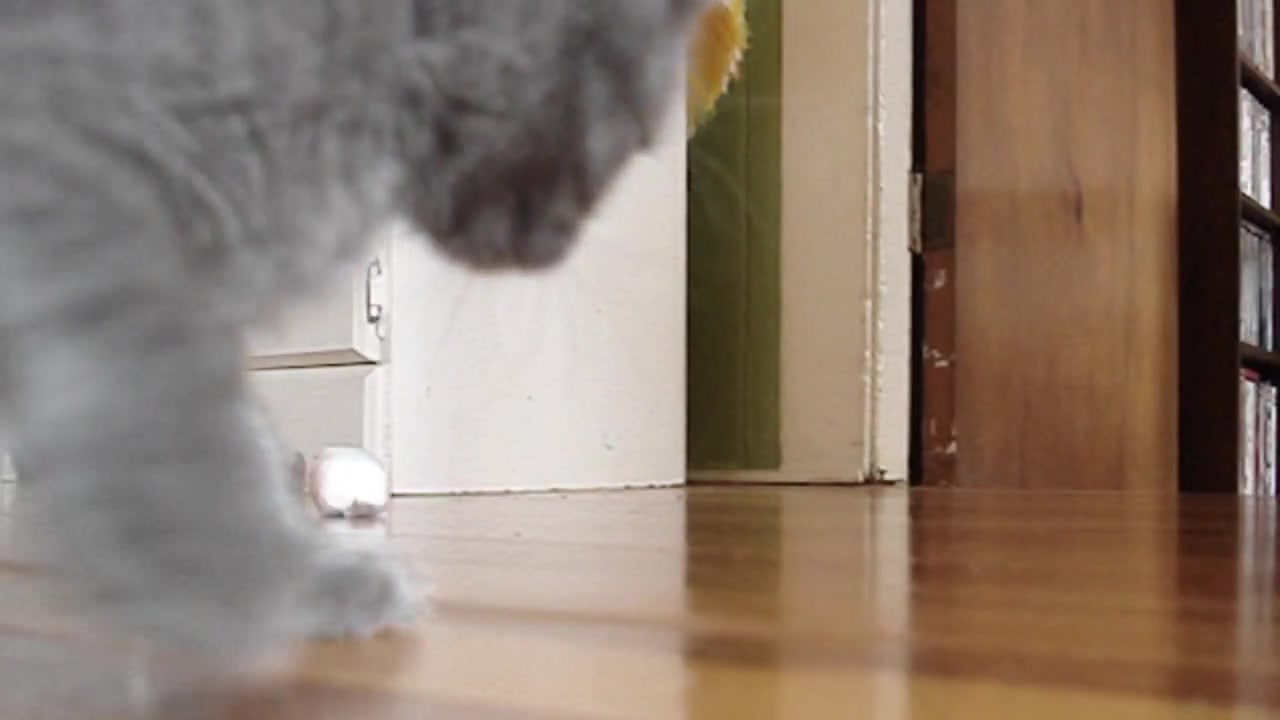cat: (1, 1, 723, 718)
